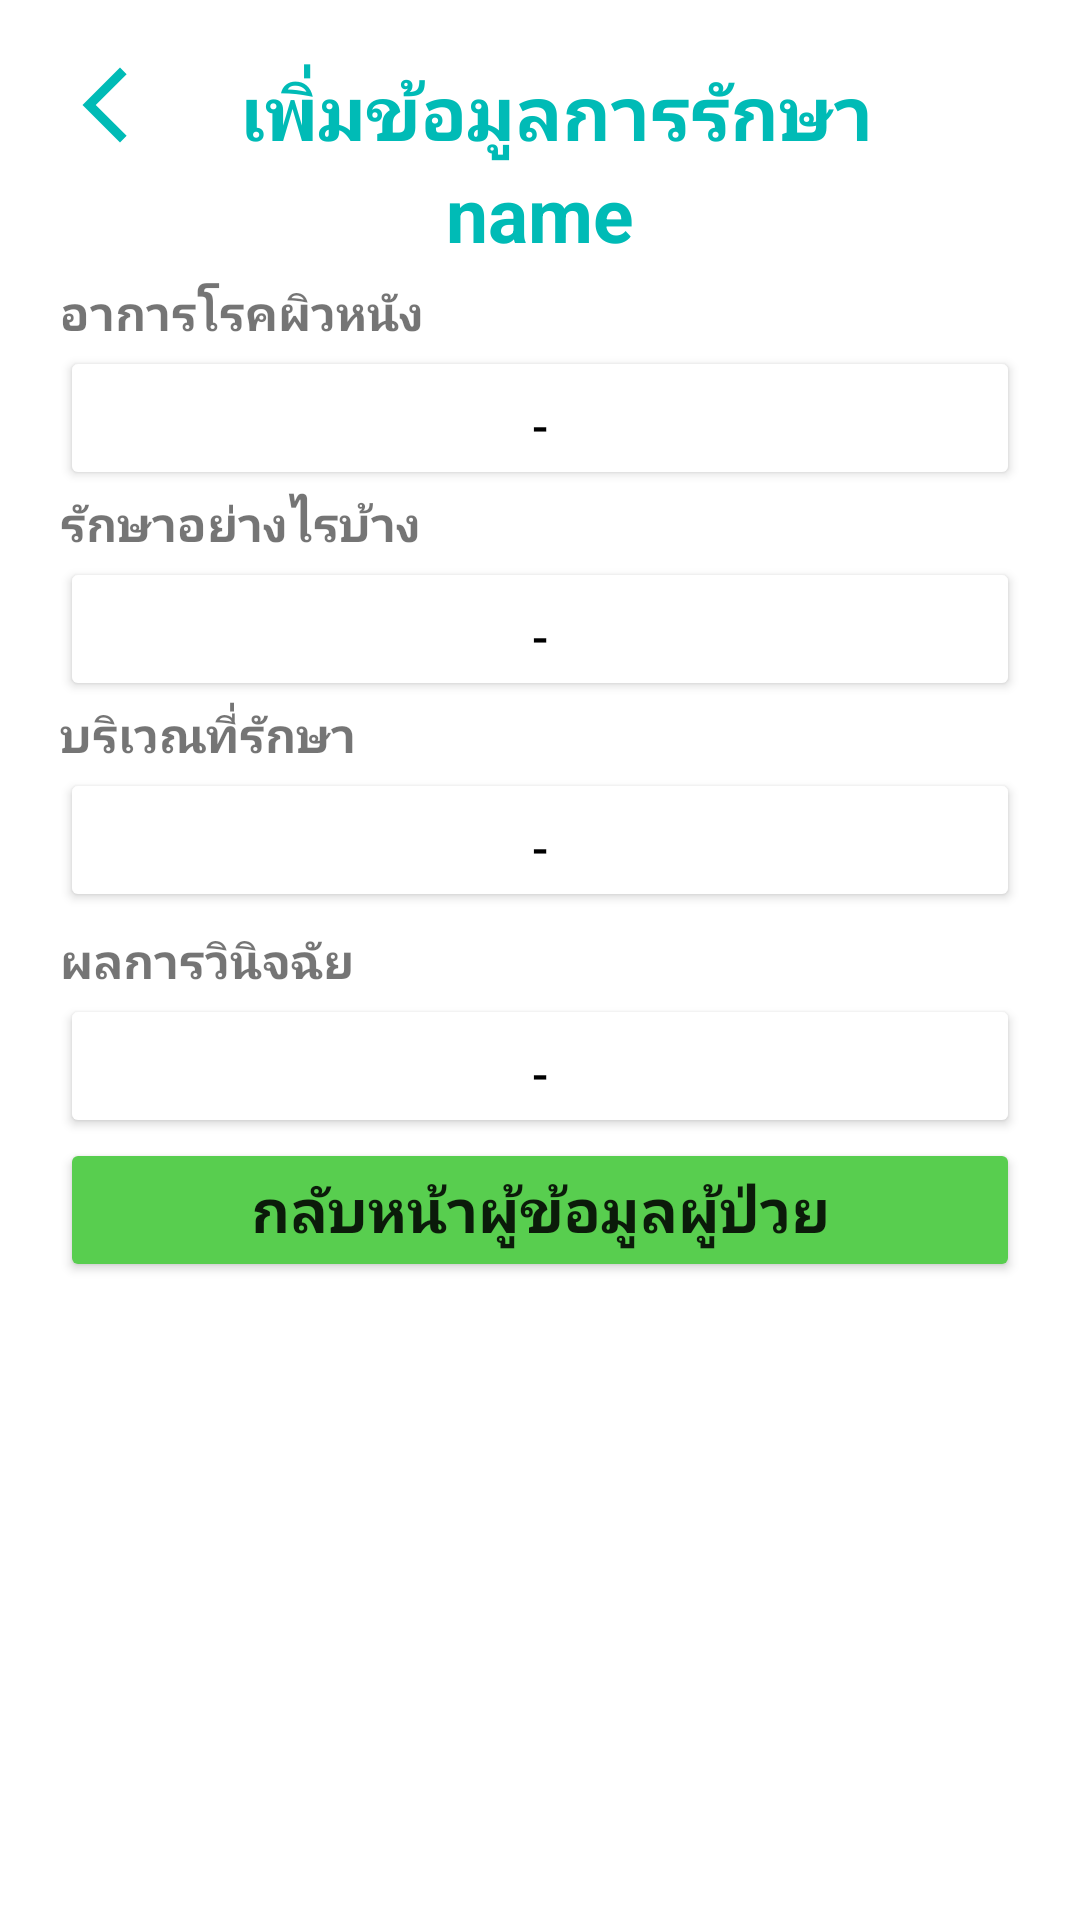

Screen size 1080w x 1920h. Icon name, then its box in pixels as (x1, y1, x2, y2):
arrow back: (82, 67, 127, 143)
